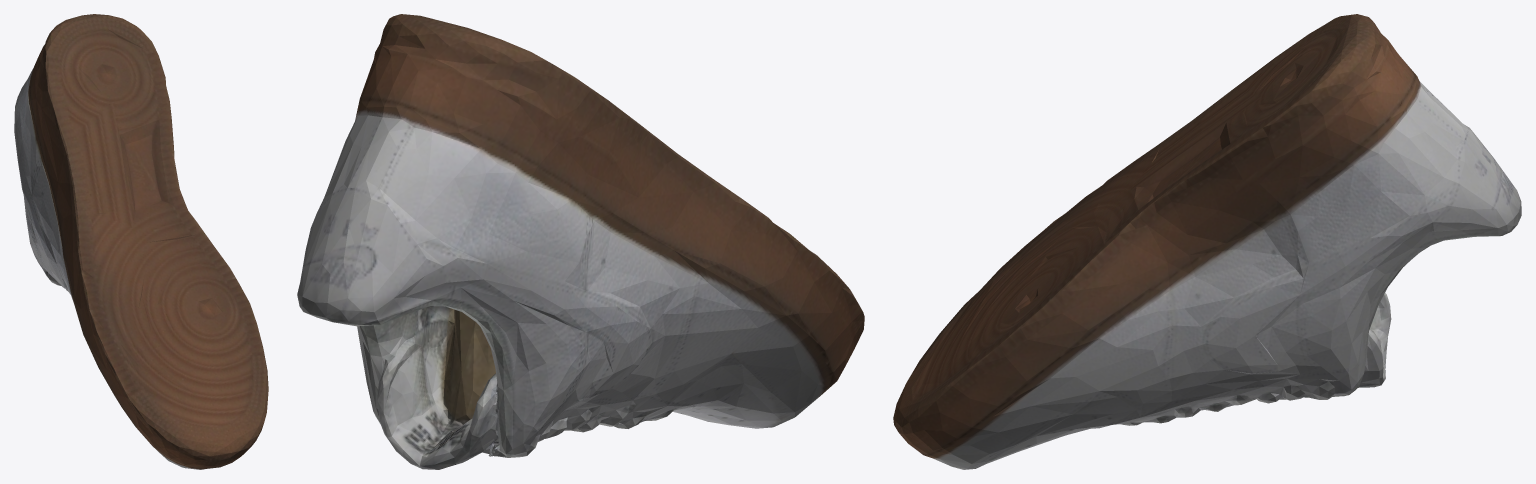
The model's file is export-left-small.obj.
3 views of the same model, side by side, from view 1: azimuth 30°, elevation 25°; view 2: azimuth 150°, elevation 25°; view 3: azimuth 270°, elevation 25° (orthographic). The views are drawn at different scales.
Bounding box in the file's own units: 118 × 228 × 287.
1 material, 1 textured.
